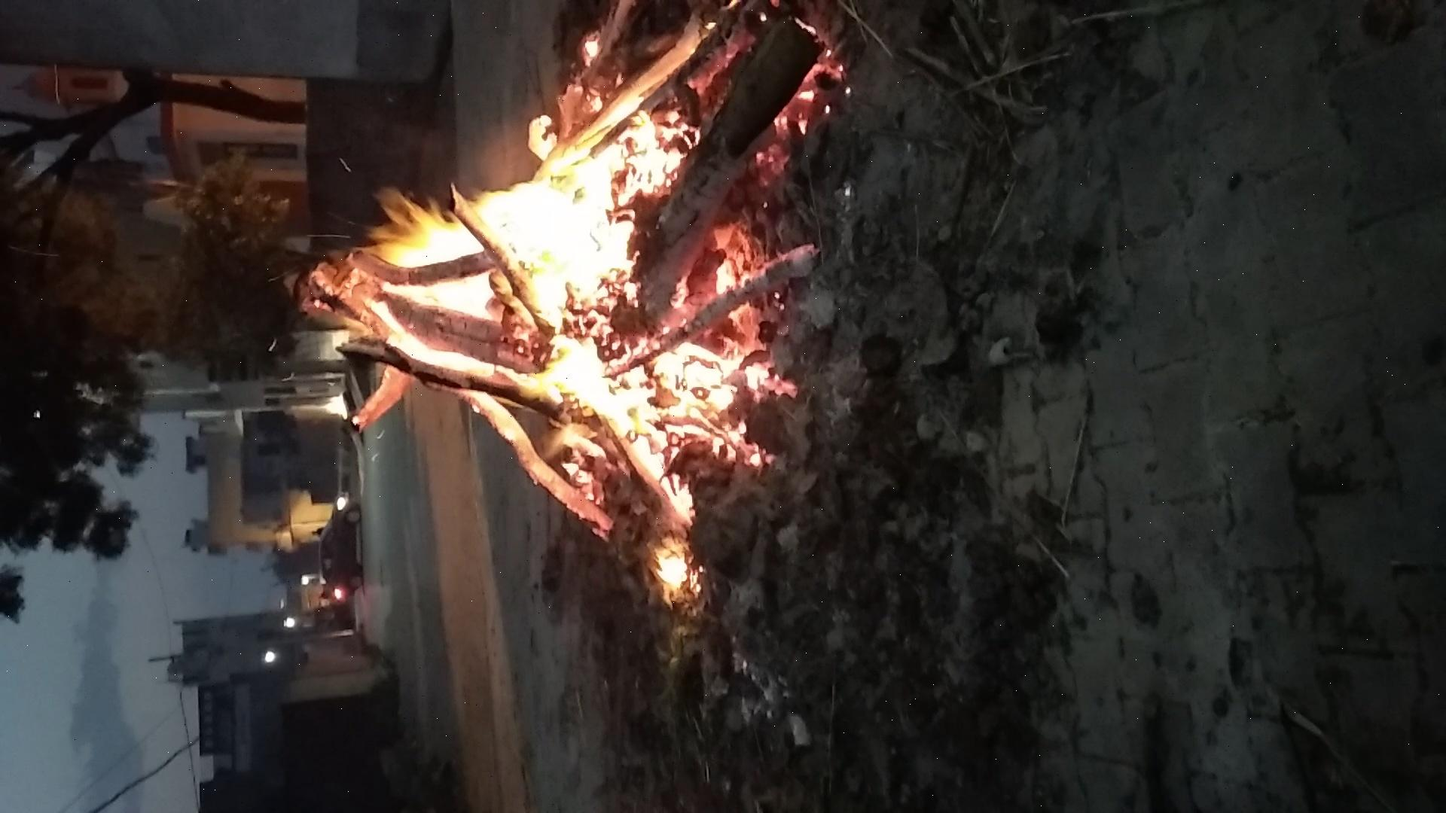fire: (415, 119, 1297, 439)
